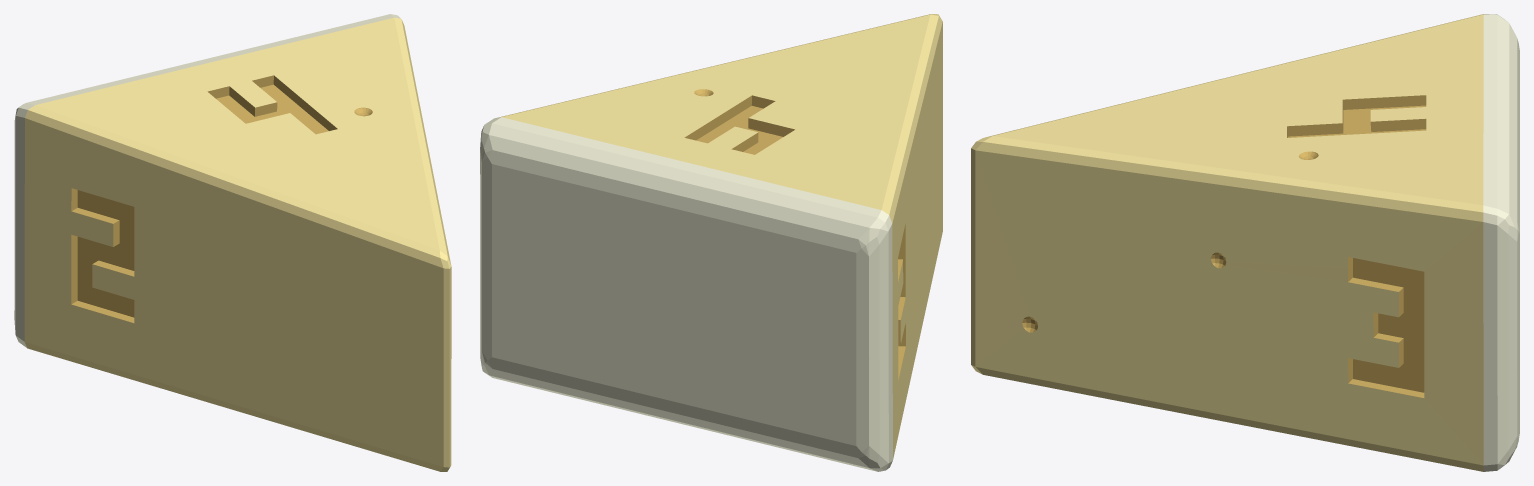
Rendered from Die_Brie_d4.fbx.
3 views of the same model, side by side, from view 1: azimuth 30°, elevation 25°; view 2: azimuth 150°, elevation 25°; view 3: azimuth 270°, elevation 25° (orthographic). The views are drawn at different scales.
Visible parts, largest first — view 1: Die_Brie_d4; view 2: Die_Brie_d4; view 3: Die_Brie_d4.
Part boxes in pixels (<box>): Die_Brie_d4: <box>14,14,451,471</box>; Die_Brie_d4: <box>480,14,942,471</box>; Die_Brie_d4: <box>971,14,1519,471</box>.
Size of the model in its own units: 1.26 by 0.7664 by 1.43.
